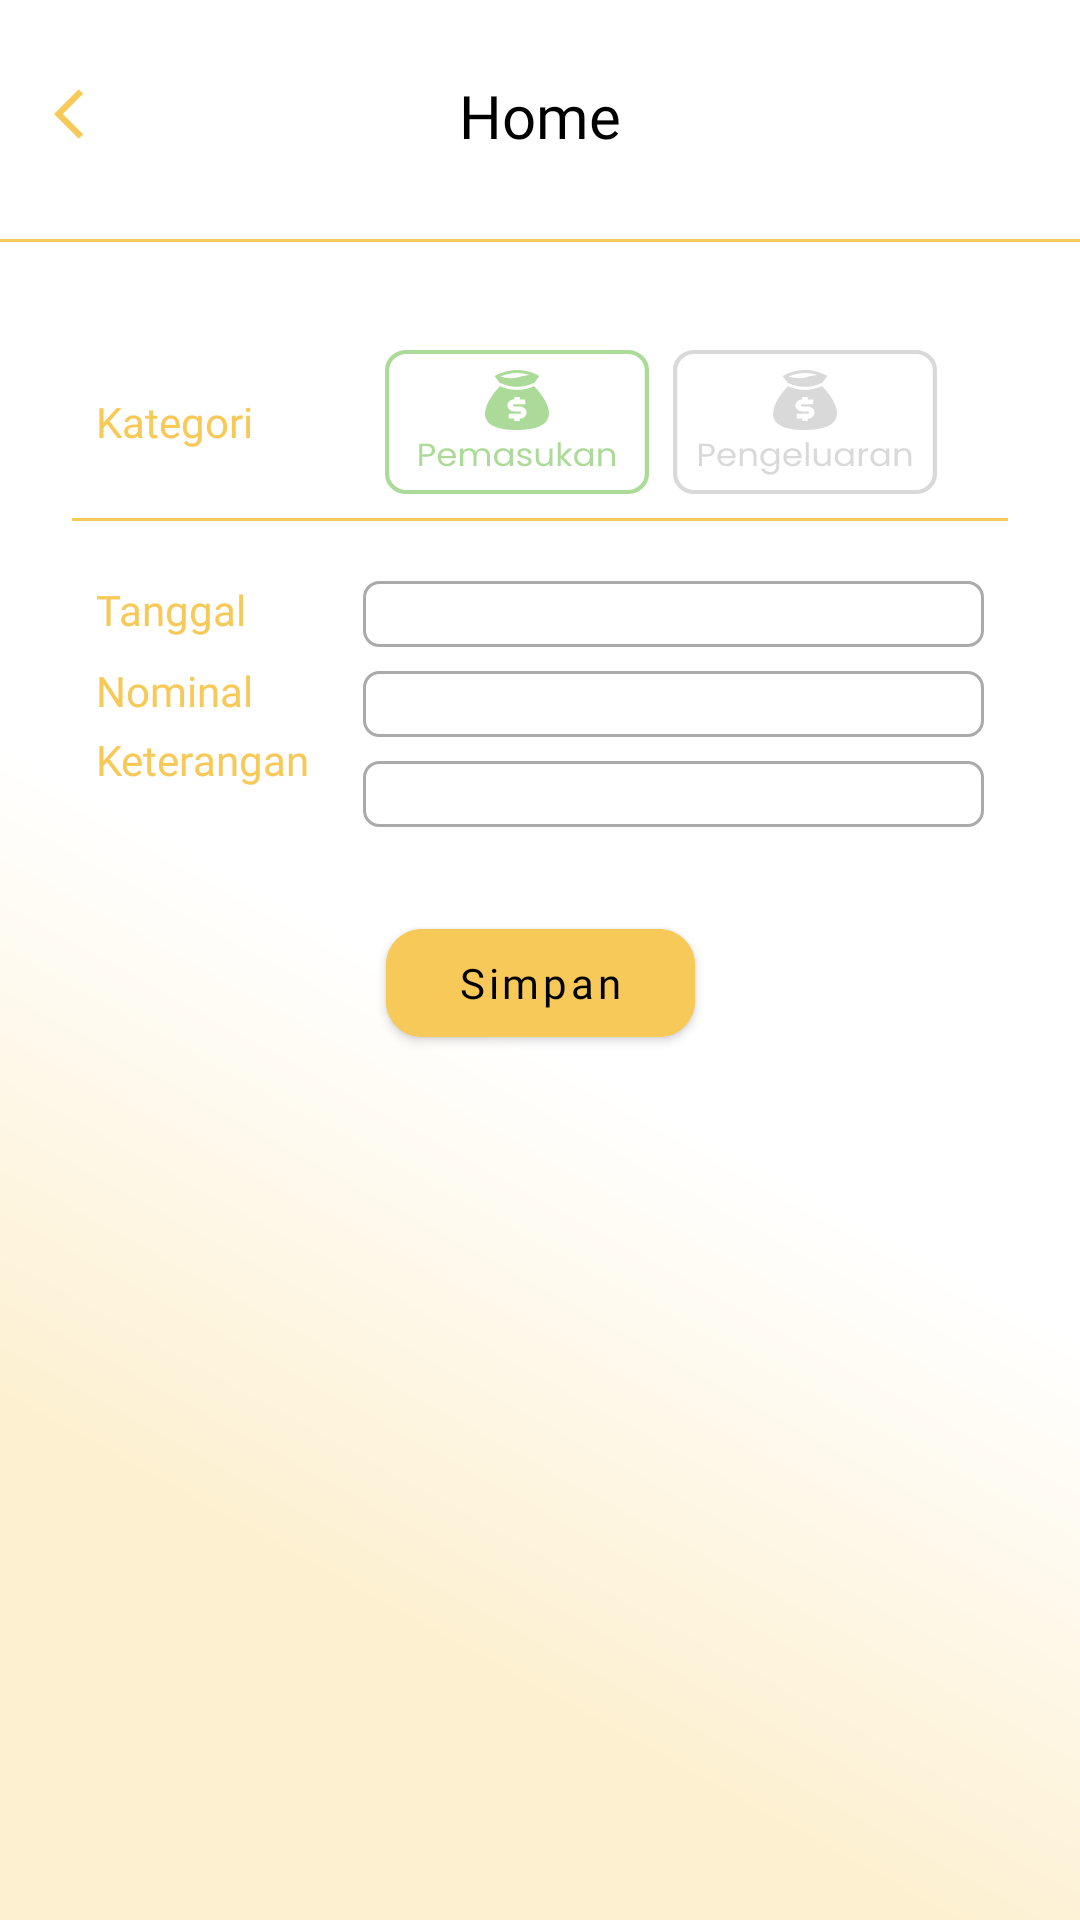

Where to tap for icons on this 1080×1920 app screen, as (x,y):
back: (68,114)
